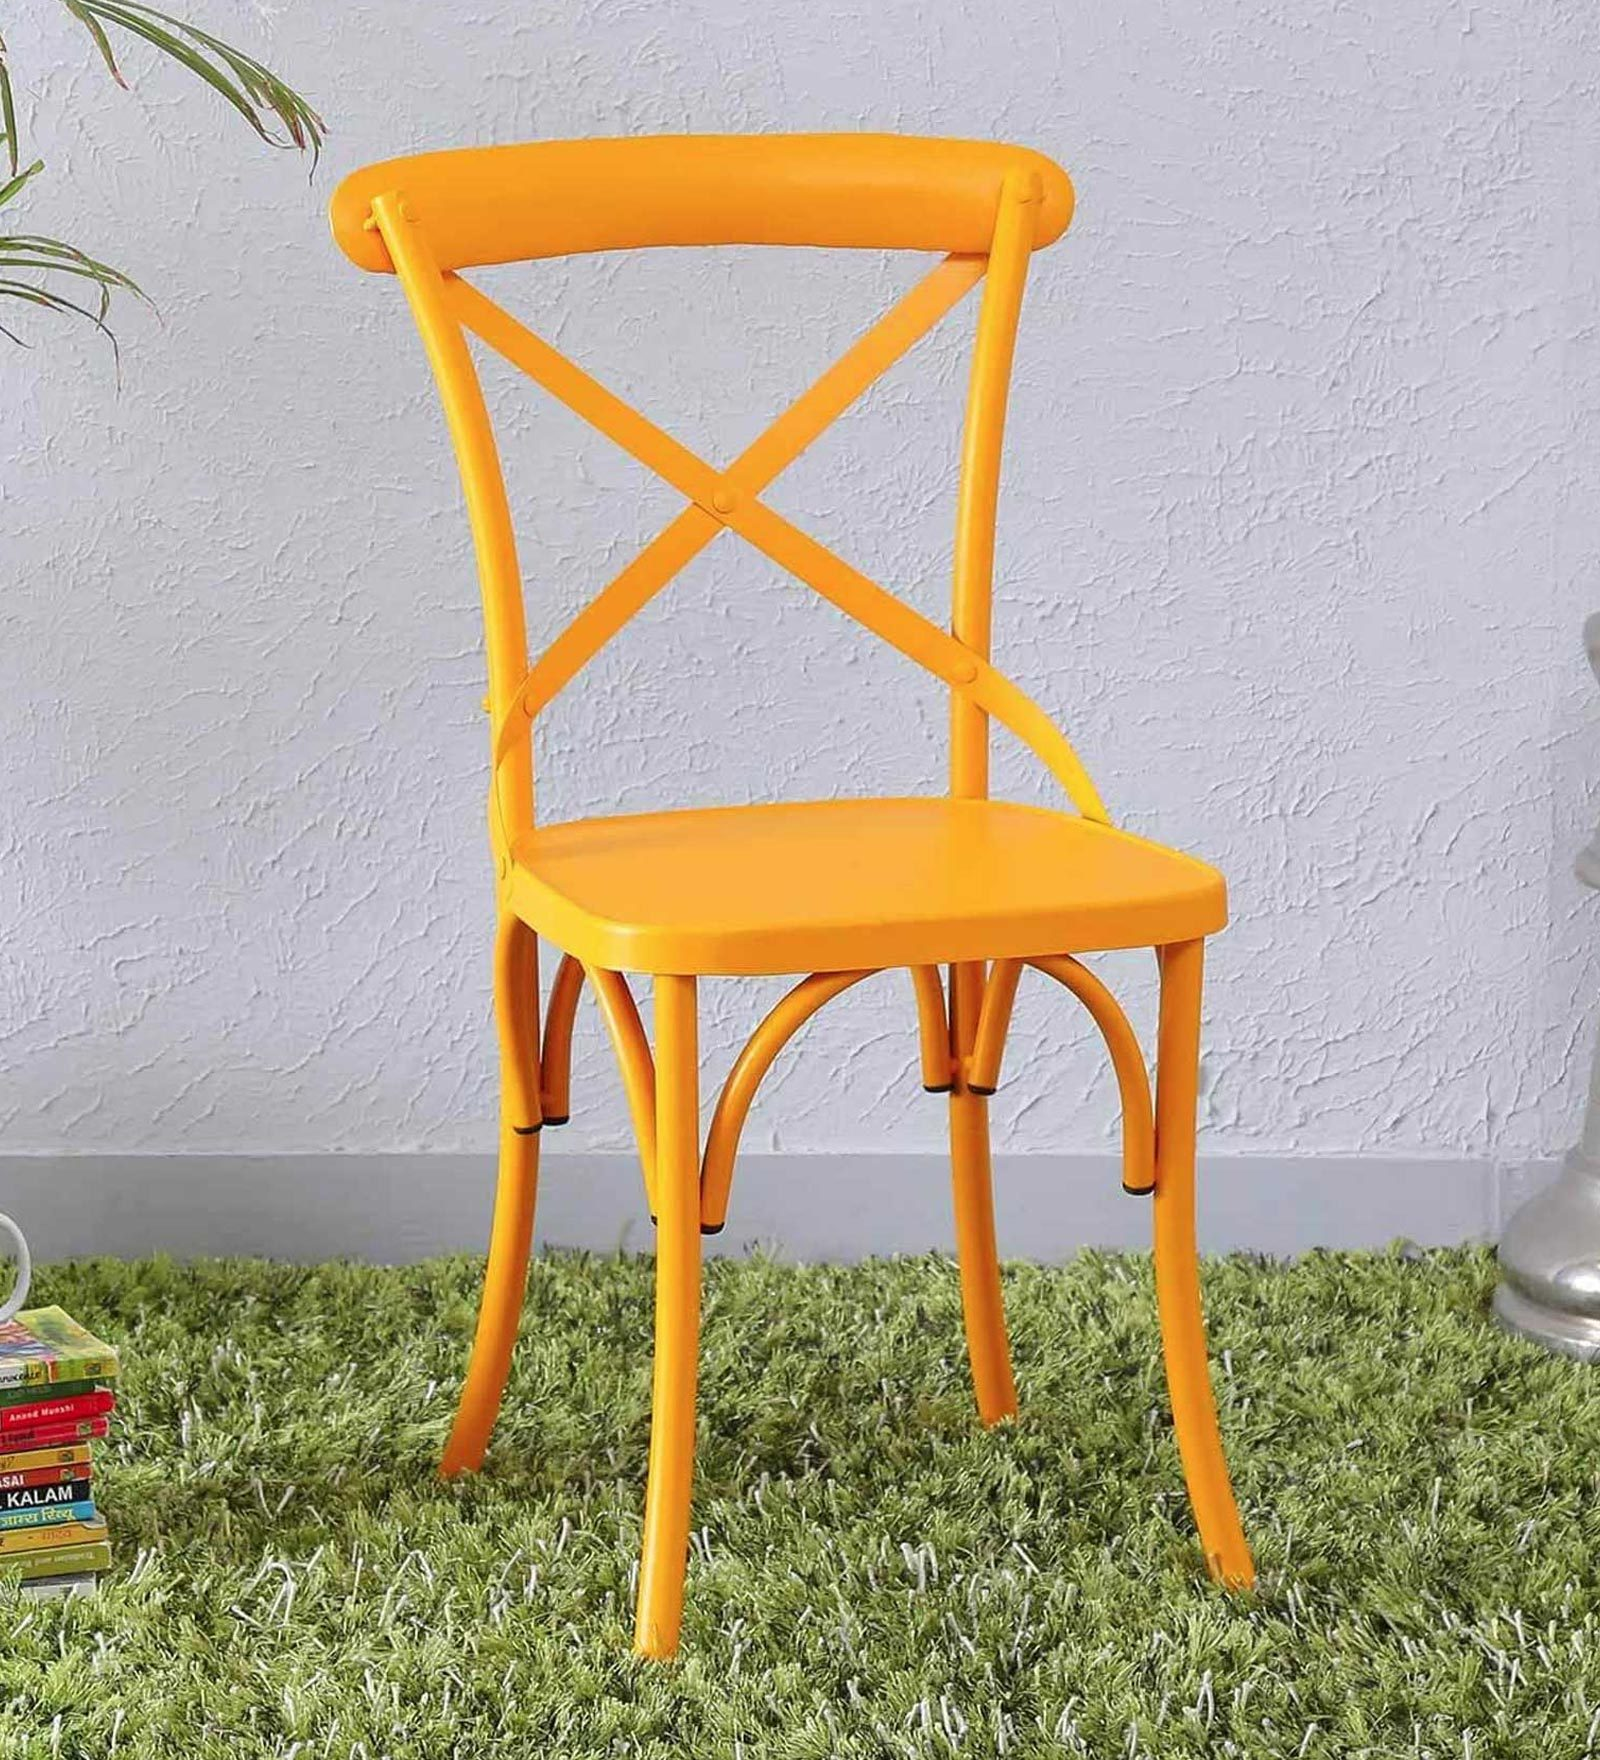Fabian Metal Chair in Yellow Color by Bohemiana: (323, 104, 1344, 1685)
